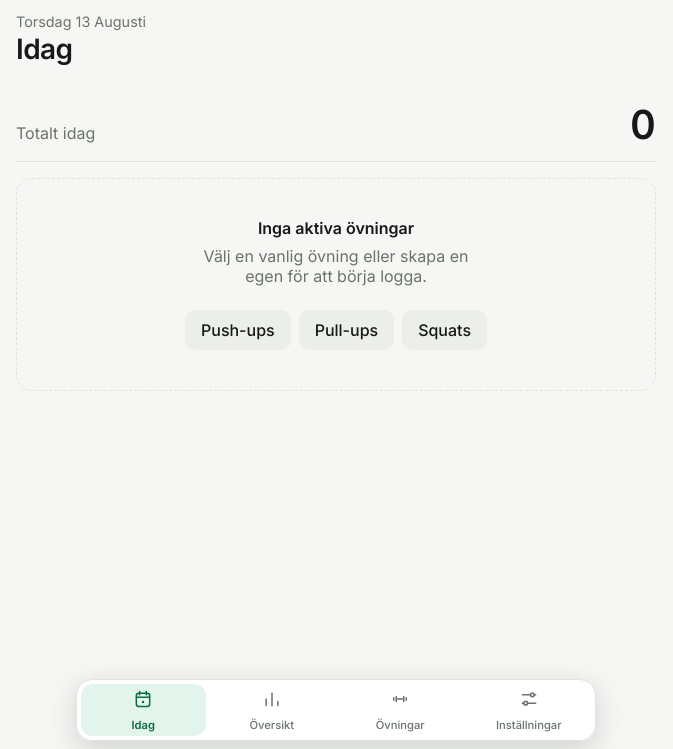
Test case: Rep Counter app › shows a validation error for invalid manual input
Click the button "Push-ups".
click(238, 330)  # box [185, 310, 291, 350]
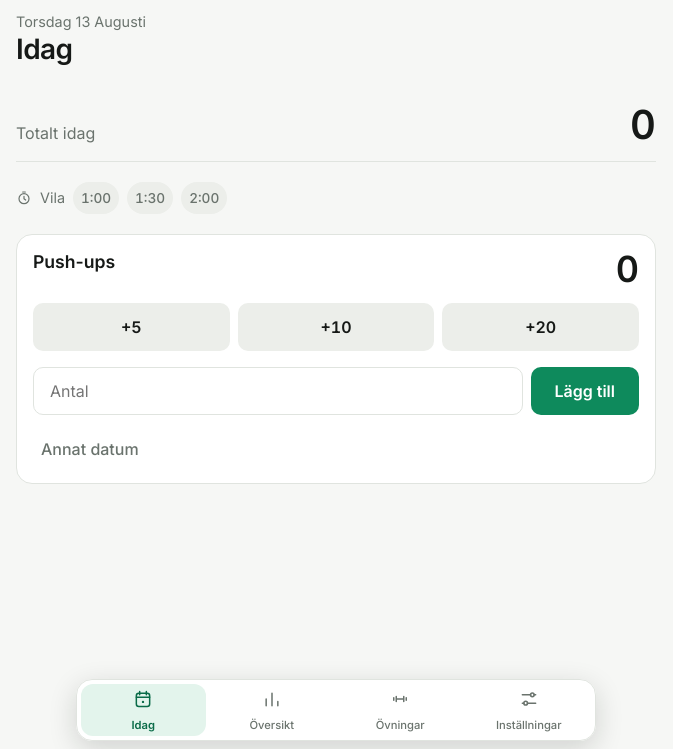
Type "0" into the number field named "Antal för Push-ups".
click(278, 391); type("0")  # box [33, 367, 522, 415]
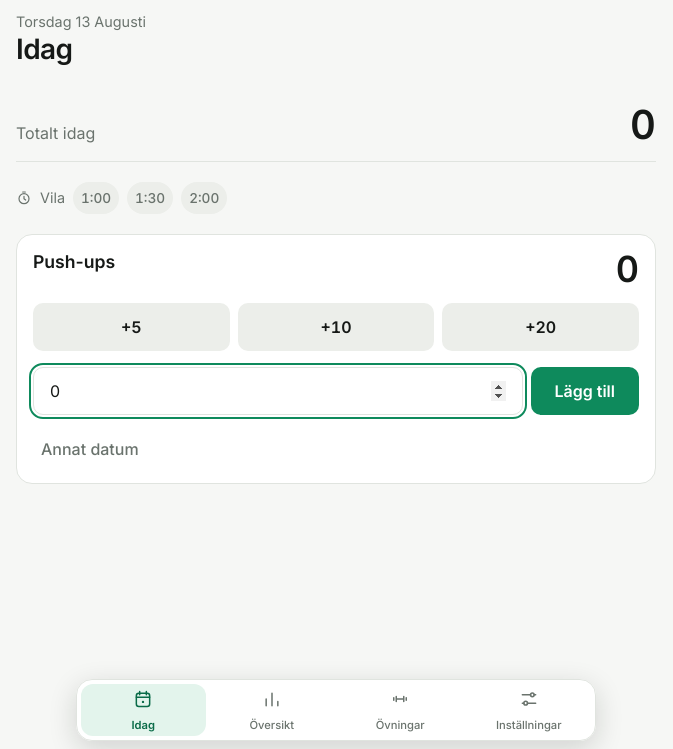
Click the button "Lägg till".
click(585, 391)  # box [530, 367, 639, 415]
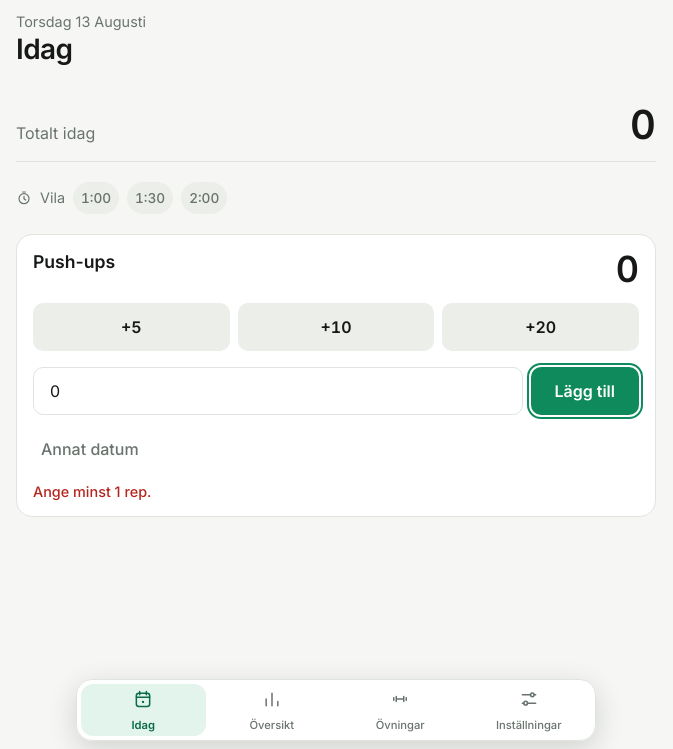
Expected: the message reads "Ange minst 1 rep.", [33, 483, 151, 500]
Type "1" into the number field named "Antal för Push-ups".
click(278, 391); type("1")  # box [33, 367, 522, 415]
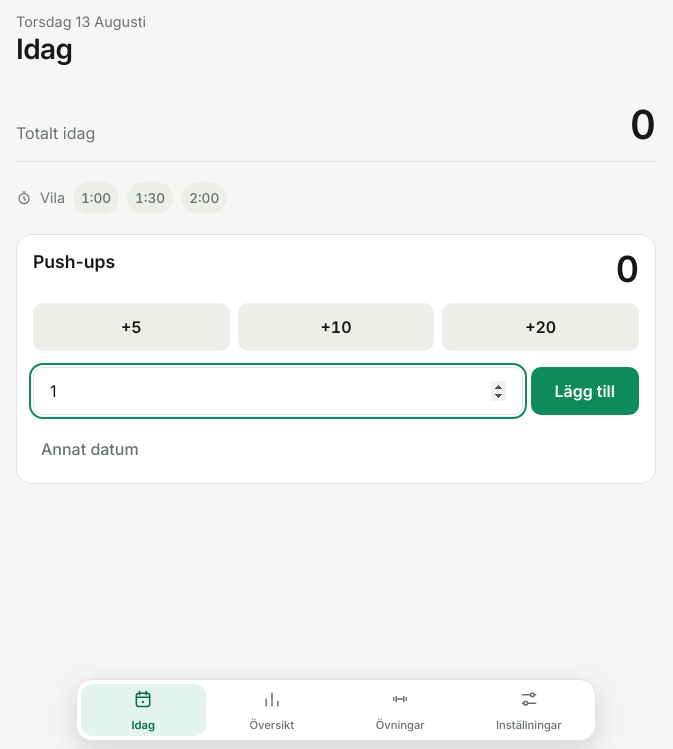
Expected: the message "Ange minst 1 rep." is gone
